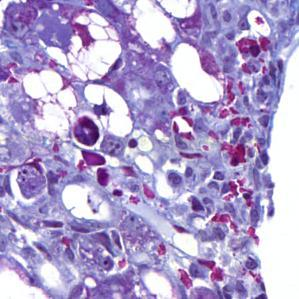ballooning: (37, 9, 124, 85), (19, 65, 81, 136), (77, 84, 139, 141)
